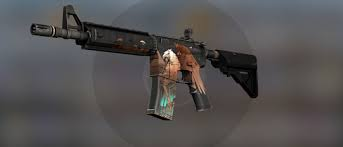gun: (26, 4, 260, 123)
